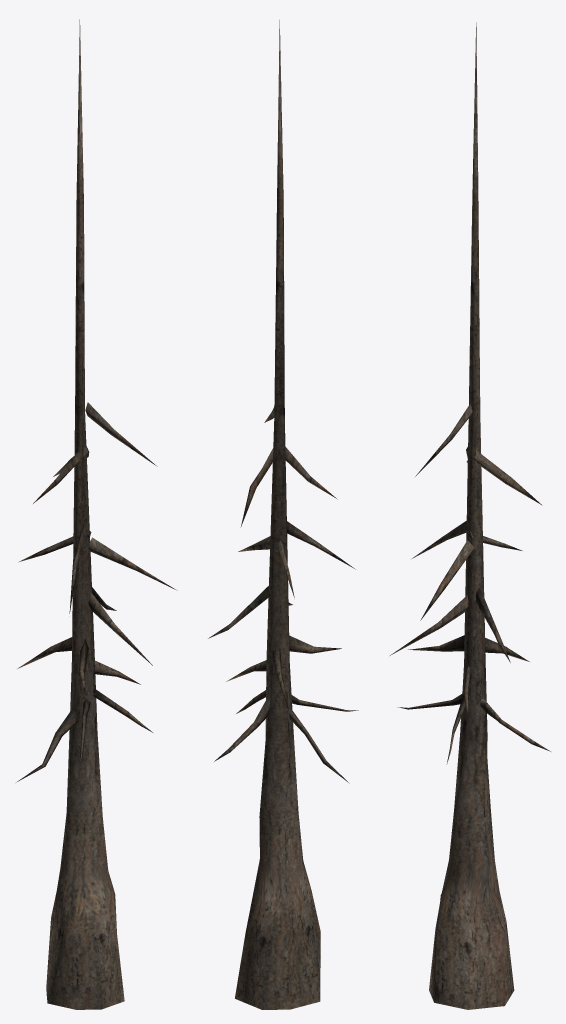
File: forest_shrub_03.glb
The picture shows the model from 3 angles, left to right: view 1: azimuth 30°, elevation 25°; view 2: azimuth 150°, elevation 25°; view 3: azimuth 270°, elevation 25°; orthographic projection.
Parts seen in each view (by area): view 1: Tree_Trunk_01_Tree_Trunk_01_0; view 2: Tree_Trunk_01_Tree_Trunk_01_0; view 3: Tree_Trunk_01_Tree_Trunk_01_0.
Part boxes in pixels (bbox=[...]): Tree_Trunk_01_Tree_Trunk_01_0: bbox=[16, 19, 177, 1009]; Tree_Trunk_01_Tree_Trunk_01_0: bbox=[208, 20, 358, 1009]; Tree_Trunk_01_Tree_Trunk_01_0: bbox=[390, 22, 550, 1009].
Bounding box in the file's own units: 0.3696 × 2.5 × 0.3801.
Materials: 1 (1 with a texture image).
